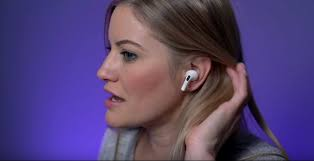earphone: (180, 55, 211, 92)
